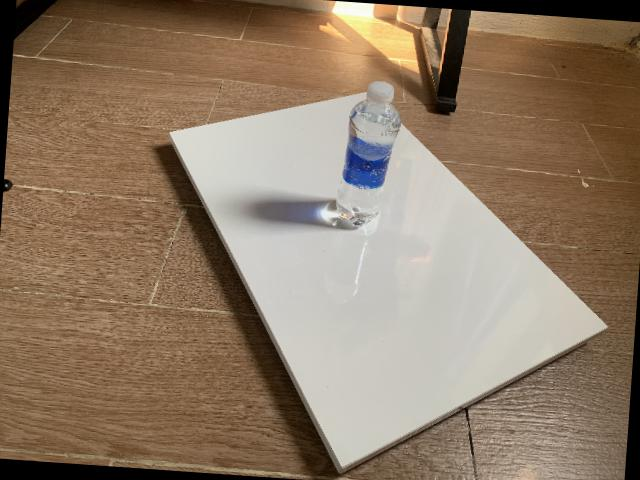aquafina: (336, 81, 400, 227)
